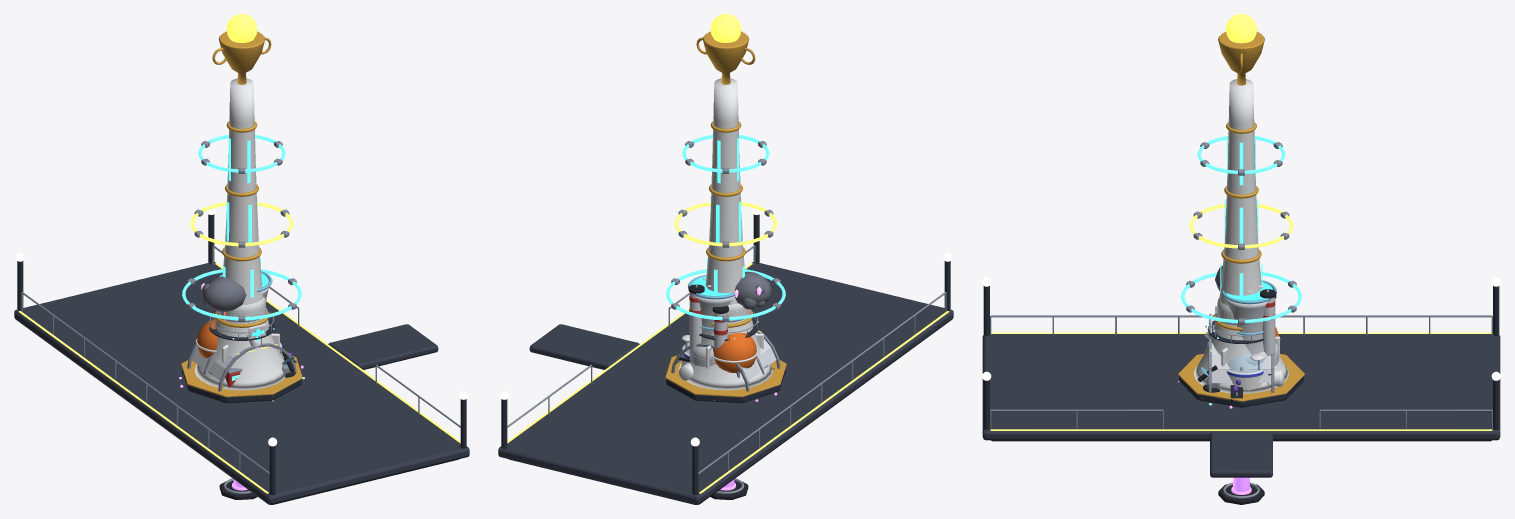
Rendered from HangarMeshes.fbx.
The picture shows the model from 3 angles, left to right: view 1: azimuth 30°, elevation 25°; view 2: azimuth 150°, elevation 25°; view 3: azimuth 270°, elevation 25°; orthographic projection.
Visible parts, largest first — view 1: Platform__3A4050__DiamondPlate, Tower__E8EAED__SmoothPlastic, Gold__D9A441__Metal, Rail__8C95A6__Metal, Cup__D9A441__Metal, Accent_Edge__C8A040__Neon, Pylon__2E3442__Metal, Spin_Asteroid_Rock__6E7380__Slate, Spin_Ring1_Band__3FA8C8__Neon, Accent_Window__3FA8C8__Neon, Base__2E3442__Metal.001, Beacon__E0B040__Neon (+6 smaller); view 2: Platform__3A4050__DiamondPlate, Tower__E8EAED__SmoothPlastic, Gold__D9A441__Metal, Rail__8C95A6__Metal, Cup__D9A441__Metal, Accent_Edge__C8A040__Neon, Pylon__2E3442__Metal, Hull__D9DEE6__SmoothPlastic, Tank__E8742A__SmoothPlastic, Spin_Asteroid_Rock__6E7380__Slate, Spin_Ring1_Band__3FA8C8__Neon, Base__2E3442__Metal.001 (+6 smaller); view 3: Platform__3A4050__DiamondPlate, Tower__E8EAED__SmoothPlastic, Rail__8C95A6__Metal, Gold__D9A441__Metal, Accent_Edge__C8A040__Neon, Pylon__2E3442__Metal, Cup__D9A441__Metal, Shell__C9CED6__Concrete, Lip__22262F__Metal, Roof__D9DEE6__SmoothPlastic, Accent_Window__3FA8C8__Neon, Spin_Ring1_Band__3FA8C8__Neon (+5 smaller).
Boxes of the visible parts, x1,y1,x2,y2 form: Platform__3A4050__DiamondPlate: (14, 262, 469, 504); Tower__E8EAED__SmoothPlastic: (194, 78, 285, 390); Gold__D9A441__Metal: (181, 121, 302, 397); Rail__8C95A6__Metal: (21, 245, 460, 474); Cup__D9A441__Metal: (212, 31, 271, 84); Accent_Edge__C8A040__Neon: (18, 263, 460, 493); Pylon__2E3442__Metal: (17, 214, 466, 495); Spin_Asteroid_Rock__6E7380__Slate: (202, 276, 246, 311); Spin_Ring1_Band__3FA8C8__Neon: (182, 269, 301, 320); Accent_Window__3FA8C8__Neon: (223, 133, 260, 297); Base__2E3442__Metal.001: (182, 369, 301, 403); Beacon__E0B040__Neon: (226, 14, 257, 42); Platform__3A4050__DiamondPlate: (498, 262, 953, 504); Tower__E8EAED__SmoothPlastic: (678, 78, 773, 390); Gold__D9A441__Metal: (665, 121, 786, 397); Rail__8C95A6__Metal: (507, 245, 946, 474); Cup__D9A441__Metal: (696, 31, 755, 84); Accent_Edge__C8A040__Neon: (507, 263, 949, 493); Pylon__2E3442__Metal: (501, 214, 950, 495); Hull__D9DEE6__SmoothPlastic: (689, 292, 727, 366); Tank__E8742A__SmoothPlastic: (713, 333, 756, 373); Spin_Asteroid_Rock__6E7380__Slate: (735, 271, 772, 309); Spin_Ring1_Band__3FA8C8__Neon: (666, 269, 785, 320); Base__2E3442__Metal.001: (666, 369, 785, 403); Platform__3A4050__DiamondPlate: (982, 334, 1500, 477); Tower__E8EAED__SmoothPlastic: (1193, 79, 1289, 393); Rail__8C95A6__Metal: (990, 315, 1492, 429); Gold__D9A441__Metal: (1178, 122, 1304, 401); Accent_Edge__C8A040__Neon: (990, 332, 1492, 430); Pylon__2E3442__Metal: (983, 286, 1499, 429); Cup__D9A441__Metal: (1218, 31, 1264, 85); Shell__C9CED6__Concrete: (1225, 289, 1273, 354); Lip__22262F__Metal: (991, 440, 1491, 441); Roof__D9DEE6__SmoothPlastic: (1211, 342, 1271, 382); Accent_Window__3FA8C8__Neon: (1220, 136, 1262, 295); Spin_Ring1_Band__3FA8C8__Neon: (1181, 271, 1301, 322).
Size of the model in its own units: 42 by 67.6 by 66.2.
